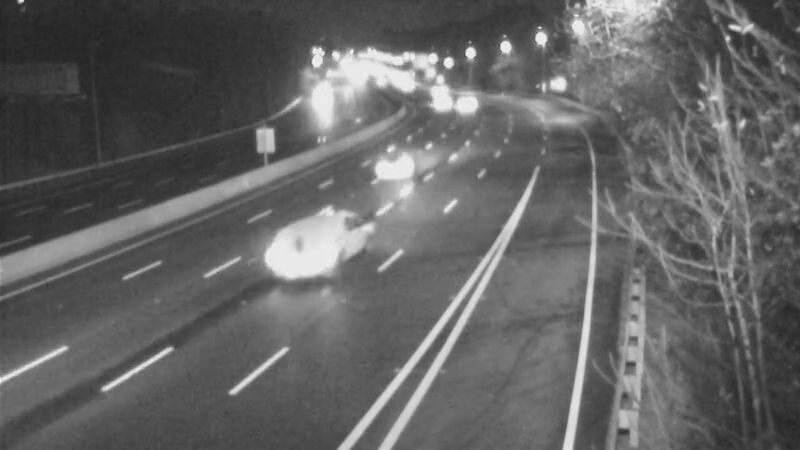vehicle: (359, 120, 439, 200), (264, 218, 344, 298), (411, 63, 461, 113), (415, 74, 465, 124), (438, 77, 488, 127), (294, 76, 344, 126)
